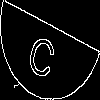C: (25, 25, 60, 81)
